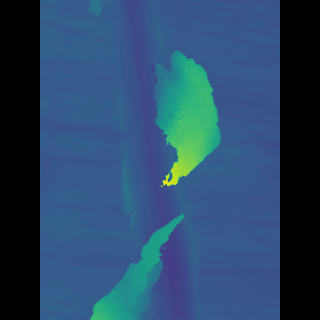Loch: (106, 0, 210, 320), (107, 205, 185, 319), (151, 43, 211, 185)
